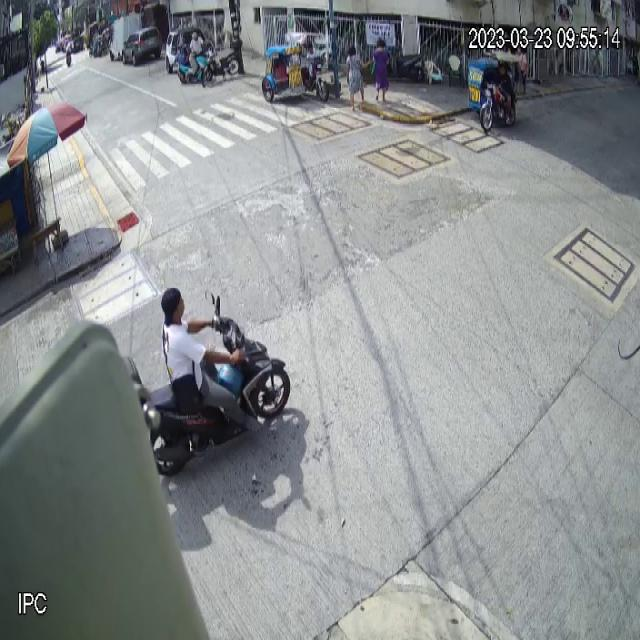Motorcycle: (126, 288, 290, 474)
Tricycle: (262, 31, 328, 103), (468, 52, 521, 132)
